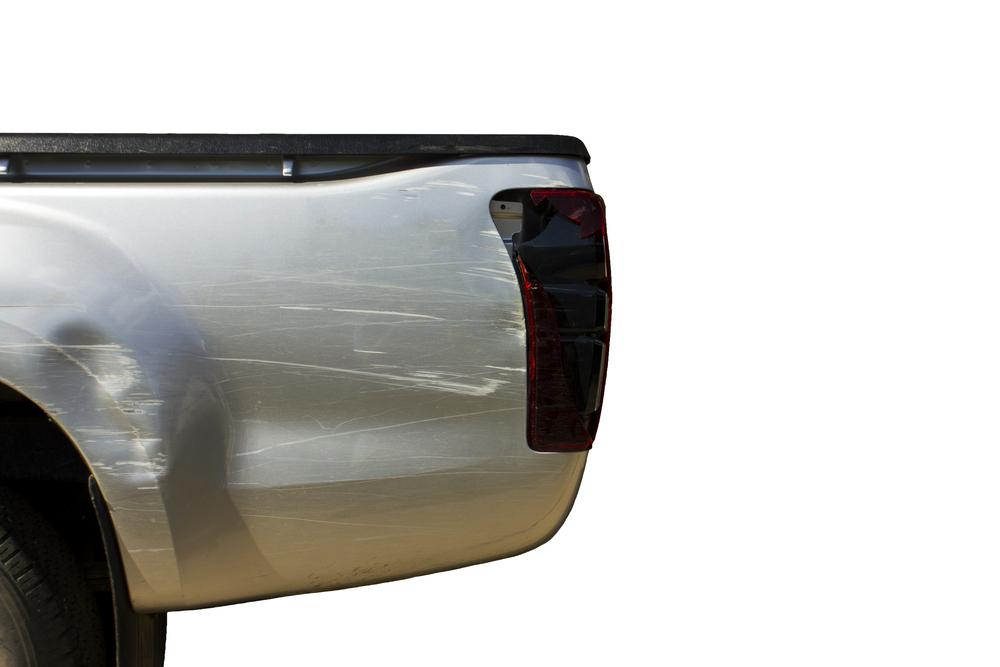dent: (37, 316, 166, 480)
lamp broken: (490, 186, 613, 453)
scratch: (175, 169, 578, 530), (107, 480, 187, 557)
